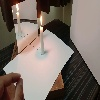fire: (40, 13, 43, 26)
